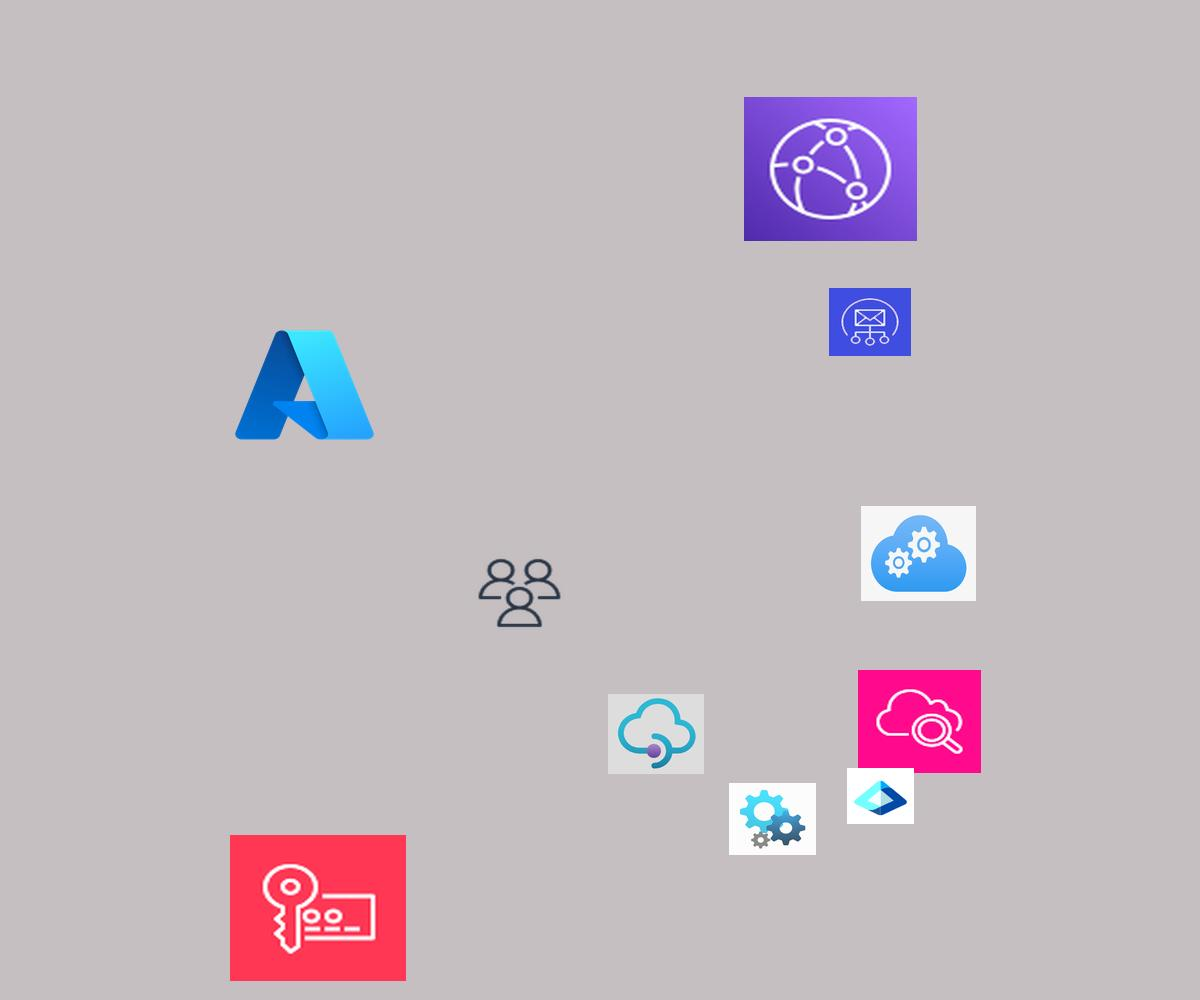AWS-CloudFront: (744, 97, 917, 241)
AWS-CloudWatch: (858, 670, 981, 773)
AWS-Key-Management-Service: (230, 835, 406, 981)
AWS-Res_Users: (475, 556, 564, 630)
AWS-Simple-Email-Service: (829, 288, 911, 356)
Azure_api: (729, 783, 816, 855)
Azure_api_gateway: (608, 694, 704, 774)
Azure_cloud_services: (861, 506, 976, 601)
Azure_microsoft_entra: (847, 768, 914, 824)
Azure_services: (229, 322, 380, 448)
